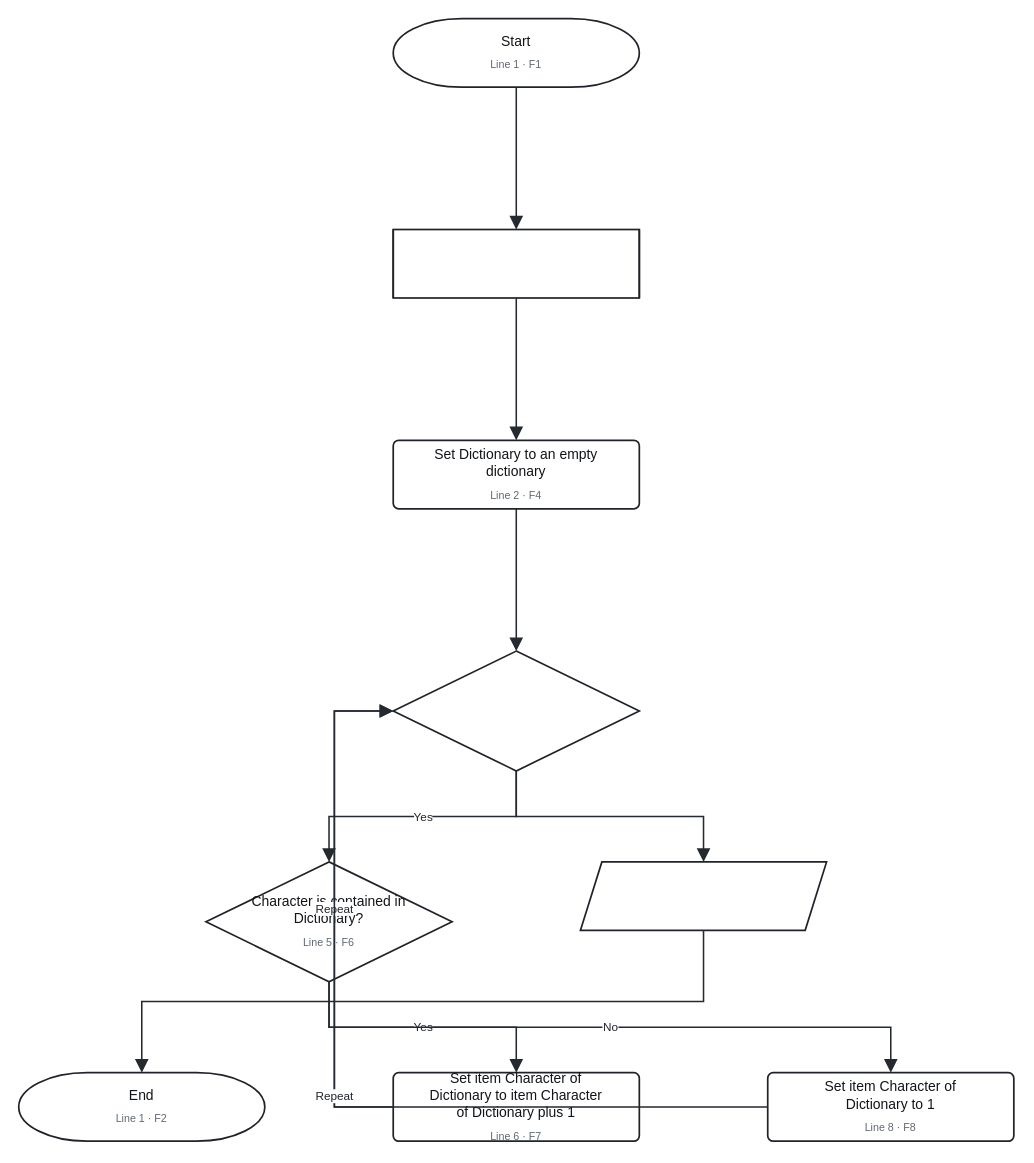
This 1034x1163 diagram has some shape labels left out. The shapes that lost their labels are listed below. From the top down, each one's centre as x and y in pixels, then its label:
At (x=516, y=263): "Run function unnamed_function with Text Line 1 · F3".
At (x=516, y=710): "For each Character in Text Line 4 · F5".
At (x=703, y=895): "Display Dictionary Line 12 · F9".
